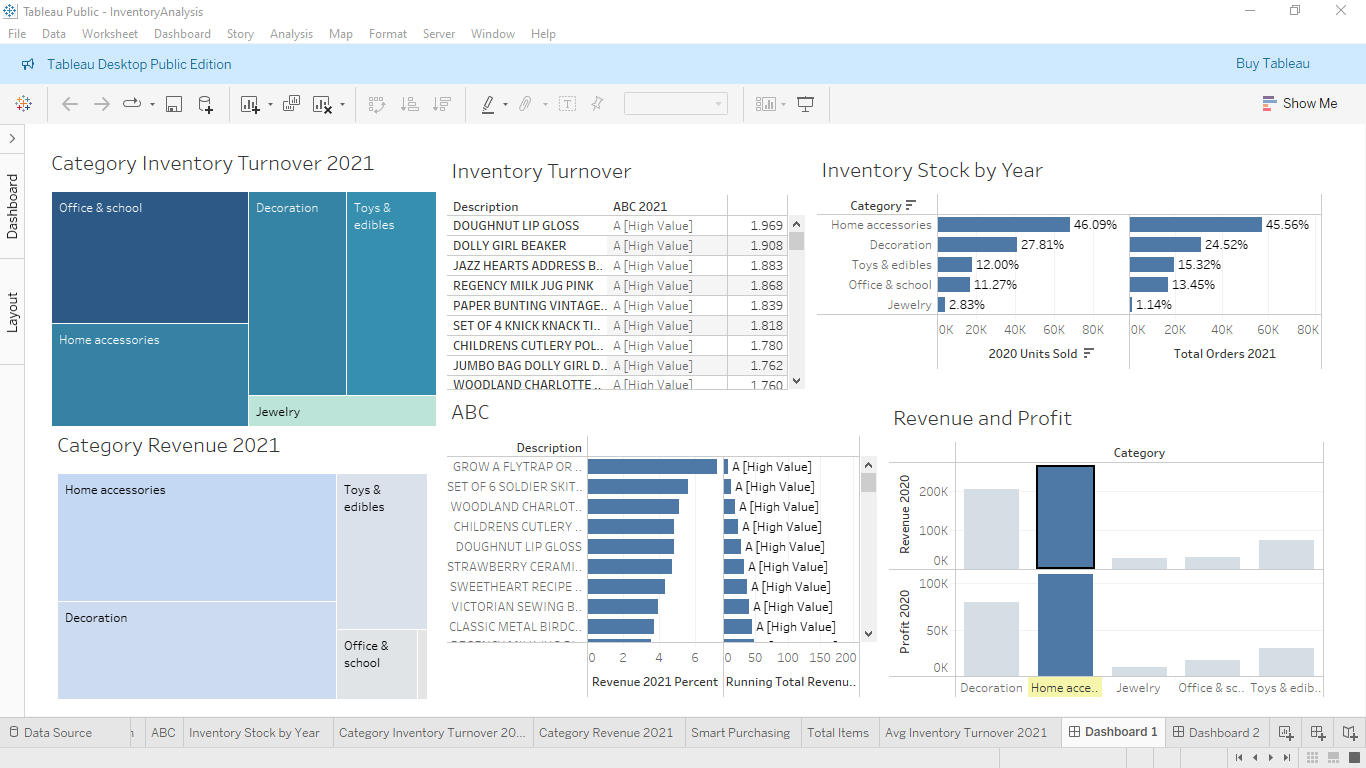

What the dashboard file says about the page in this screenshot:
{"tool":"tableau","page":{"name":"Dashboard 1","canvas":[1000,1000],"units":"permille","ordinal":0},"visuals":[{"type":"worksheet","title":"Category Inventory Turnover 2021","mark":"Automatic","box":[16.4,33.8,317.9,484.8]},{"type":"worksheet","title":"Inventory Stock by Year","mark":"Automatic","rows":["Category"],"cols":["2020_units_sold","Calculation_1009932275439714312"],"box":[591,45.6,376.9,400.3]},{"type":"worksheet","title":"Inventory Turnover","mark":"Automatic","rows":["Description"],"box":[314.9,47.3,544.8,402]},{"type":"worksheet","title":"ABC","mark":"Automatic","rows":["Description"],"box":[314.9,454.4,321.6,515.2]},{"type":"worksheet","title":"Revenue and Profit","mark":"Automatic","rows":["Calculation_1009932275416657923","Calculation_1009932275417325573"],"cols":["Category"],"box":[644.8,464.5,324.6,505.1]},{"type":"worksheet","title":"Category Revenue 2021","mark":"Automatic","box":[20.8,511,310,468.8]}]}

Visuals, with their boxes on the dashboard's canvas, which has no fixed pixel size, in thousandths of its width and height (x1, y1, x2, y2). These are canvas units, not pixel positions in the 1366x768 screenshot, which may show the page scaled, cropped or inside an application window:
"Category Inventory Turnover 2021" worksheet: bbox(16, 34, 334, 519)
"Inventory Stock by Year" worksheet: bbox(591, 46, 968, 446)
"Inventory Turnover" worksheet: bbox(315, 47, 860, 449)
"ABC" worksheet: bbox(315, 454, 636, 970)
"Revenue and Profit" worksheet: bbox(645, 464, 969, 970)
"Category Revenue 2021" worksheet: bbox(21, 511, 331, 980)
